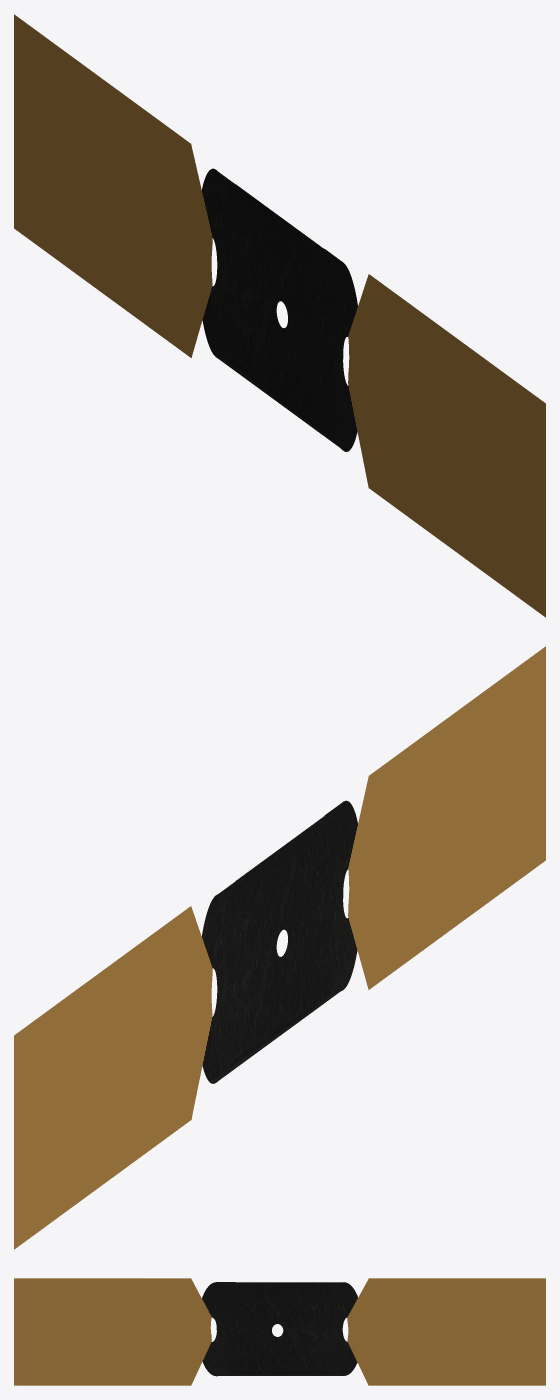
File: elastic.glb
3 views of the same model, one above another, from view 1: azimuth 30°, elevation 25°; view 2: azimuth 150°, elevation 25°; view 3: azimuth 270°, elevation 25° (orthographic). The views are drawn at different scales.
Parts seen in each view (by area): view 1: Plane; view 2: Plane; view 3: Plane.
Boxes of the visible parts, x1,y1,x2,y2 form: Plane: (14,14,545,617); Plane: (14,646,545,1249); Plane: (14,1278,545,1385).
Size of the model in its own units: 4.37e-08 by 1 by 4.5.
1 material, 1 textured.
